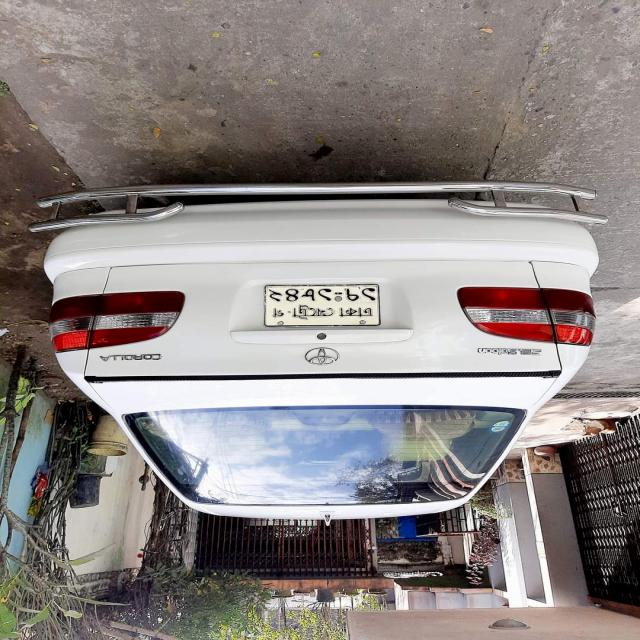white: (44, 195, 600, 525)
